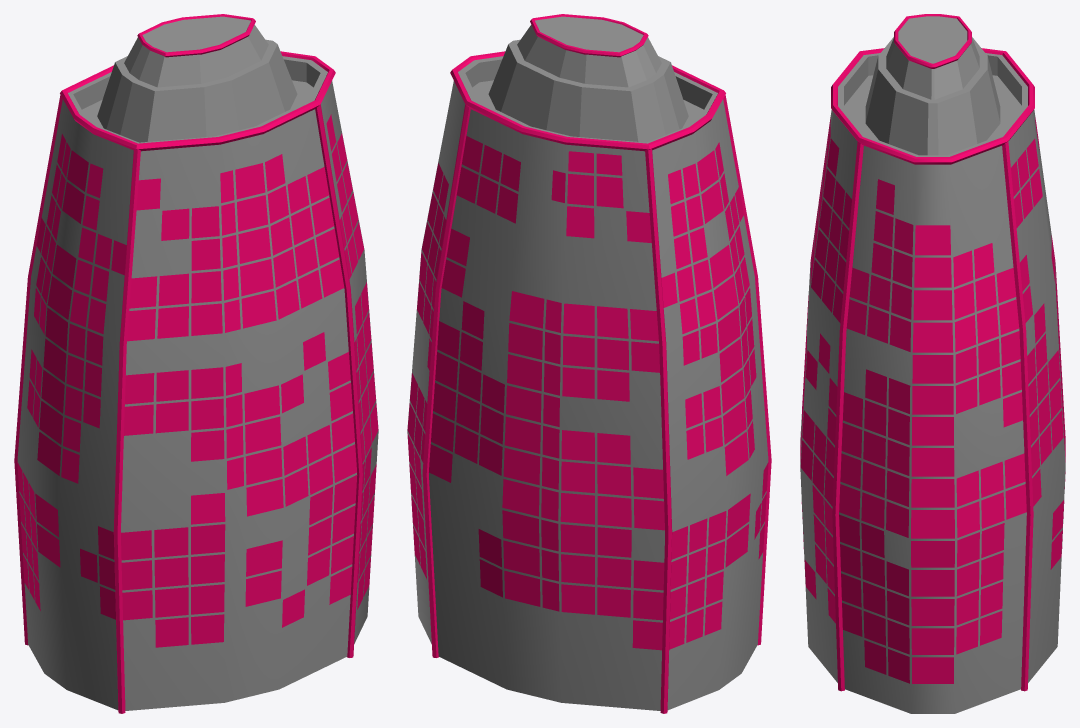
File: obj_bbuilding003.FBX
3 renders of one model, left to right at view 1: azimuth 30°, elevation 25°; view 2: azimuth 150°, elevation 25°; view 3: azimuth 270°, elevation 25°, orthographic. The views are drawn at different scales.
Parts seen in each view (by area): view 1: bbuilding003; view 2: bbuilding003; view 3: bbuilding003.
Part boxes in pixels (left/top/right/bottom): bbuilding003: left=14, top=14, right=378, bottom=713; bbuilding003: left=407, top=14, right=771, bottom=713; bbuilding003: left=800, top=14, right=1065, bottom=713.
Size of the model in its own units: 14048 by 25812 by 10327.
